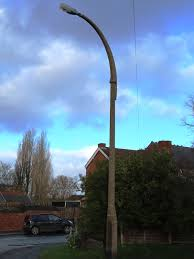light_pole: (92, 24, 122, 254)
